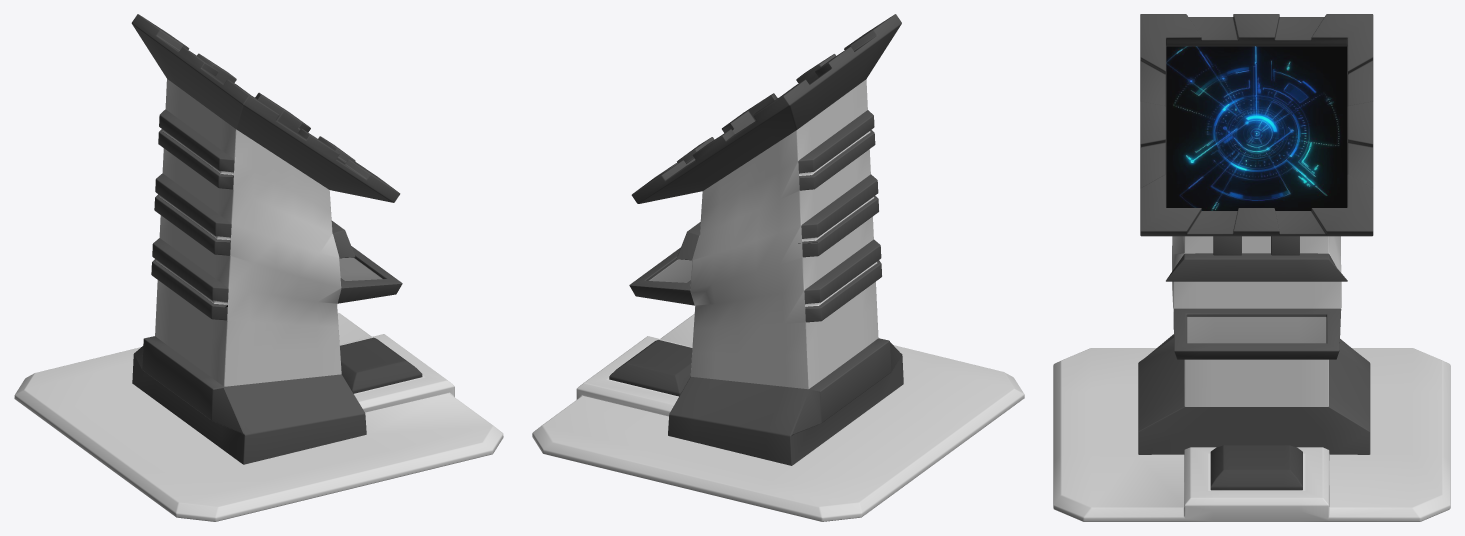
3 views of the same model, side by side, from view 1: azimuth 30°, elevation 25°; view 2: azimuth 150°, elevation 25°; view 3: azimuth 270°, elevation 25° (orthographic). The views are drawn at different scales.
Parts seen in each view (by area): view 1: TV.003; view 2: TV.003; view 3: TV.003.
Part boxes in pixels (x1,y1,x2,y2): TV.003: (14,14,503,521); TV.003: (532,14,1024,521); TV.003: (1053,14,1450,521).
Size of the model in its own units: 201 by 221 by 202.
6 materials, 1 textured.
